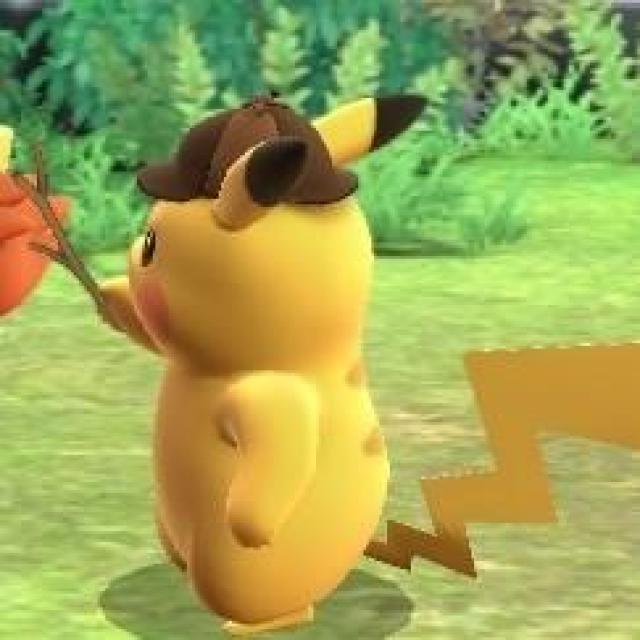pikachu: (93, 95, 640, 635)
